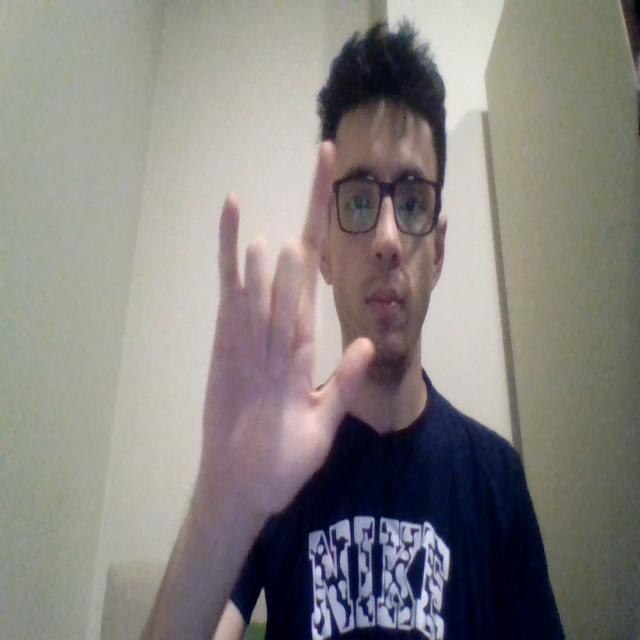iloveyou: (196, 190, 376, 524)
